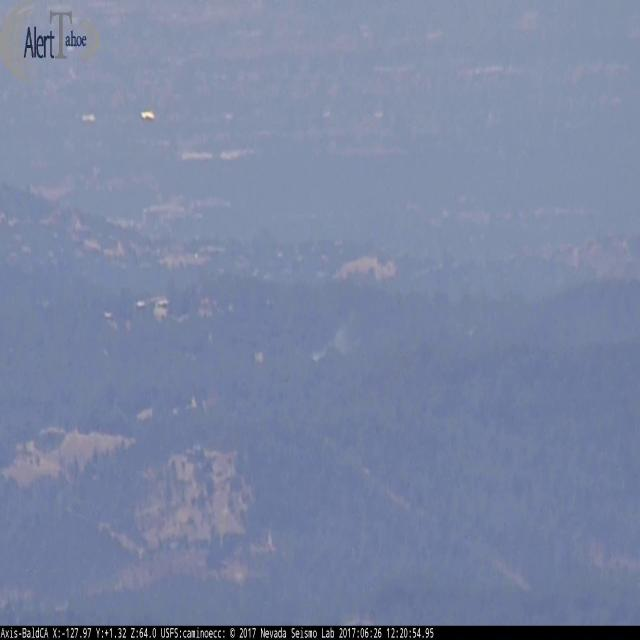smoke: (309, 301, 374, 366)
